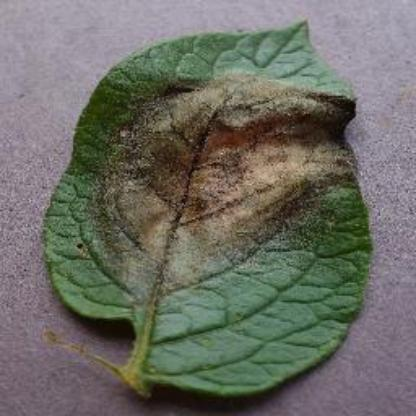Late-Blight: (69, 26, 369, 392)
